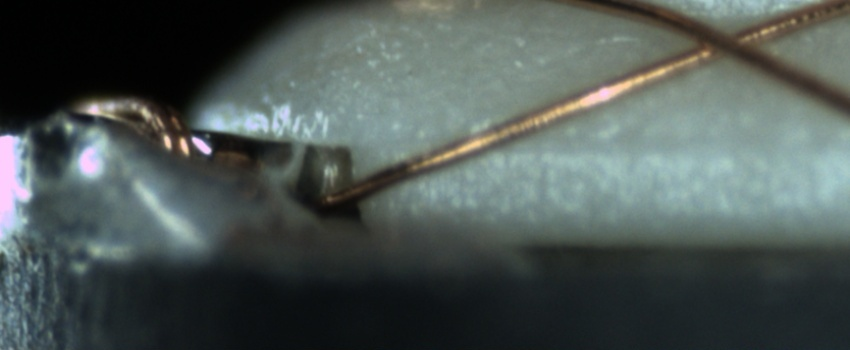CL: (661, 6, 786, 70)
DL: (439, 111, 850, 175)
TE: (67, 84, 203, 168)
